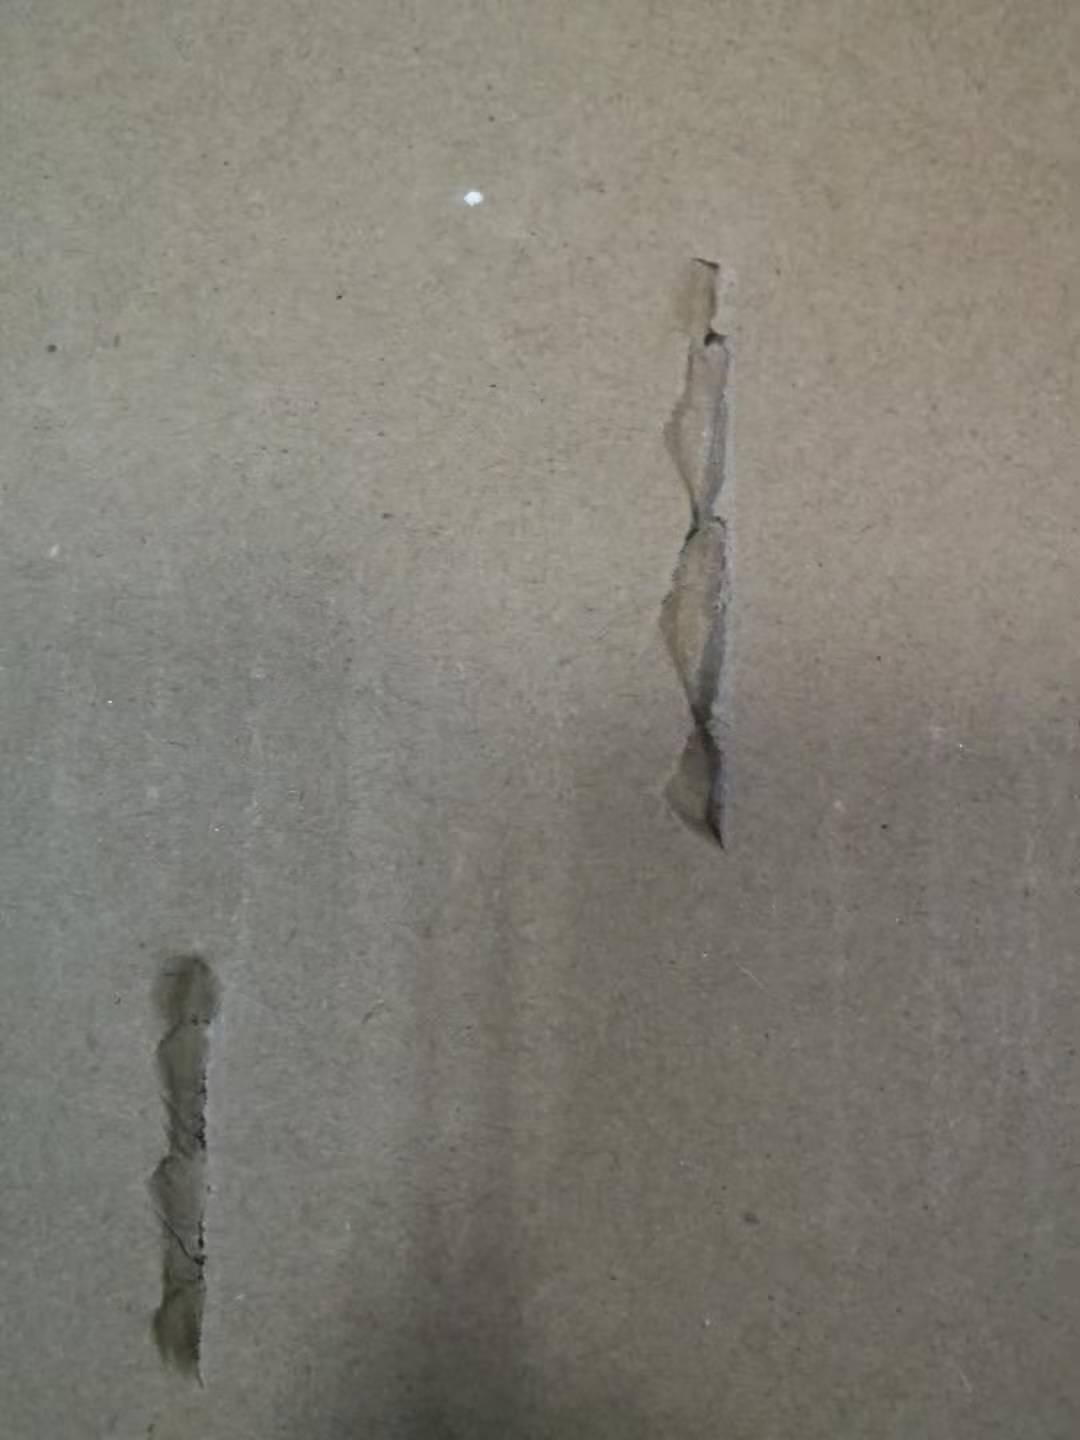defect: (577, 218, 828, 884), (88, 912, 295, 1411)
